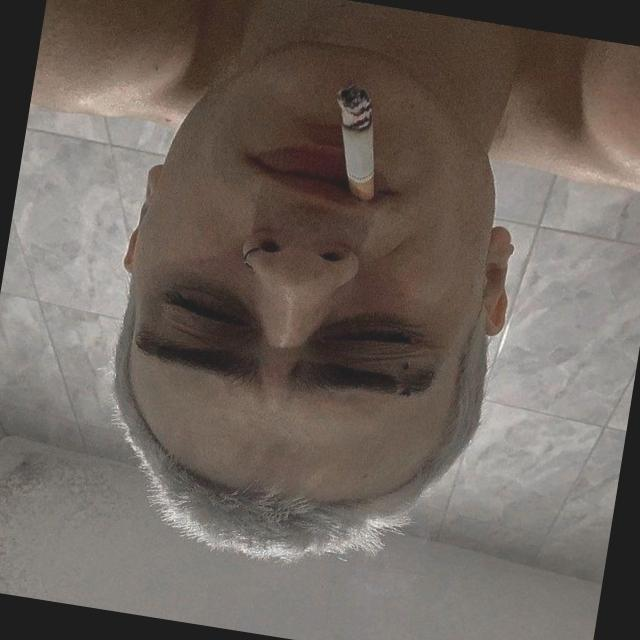smoke: (312, 74, 404, 224)
